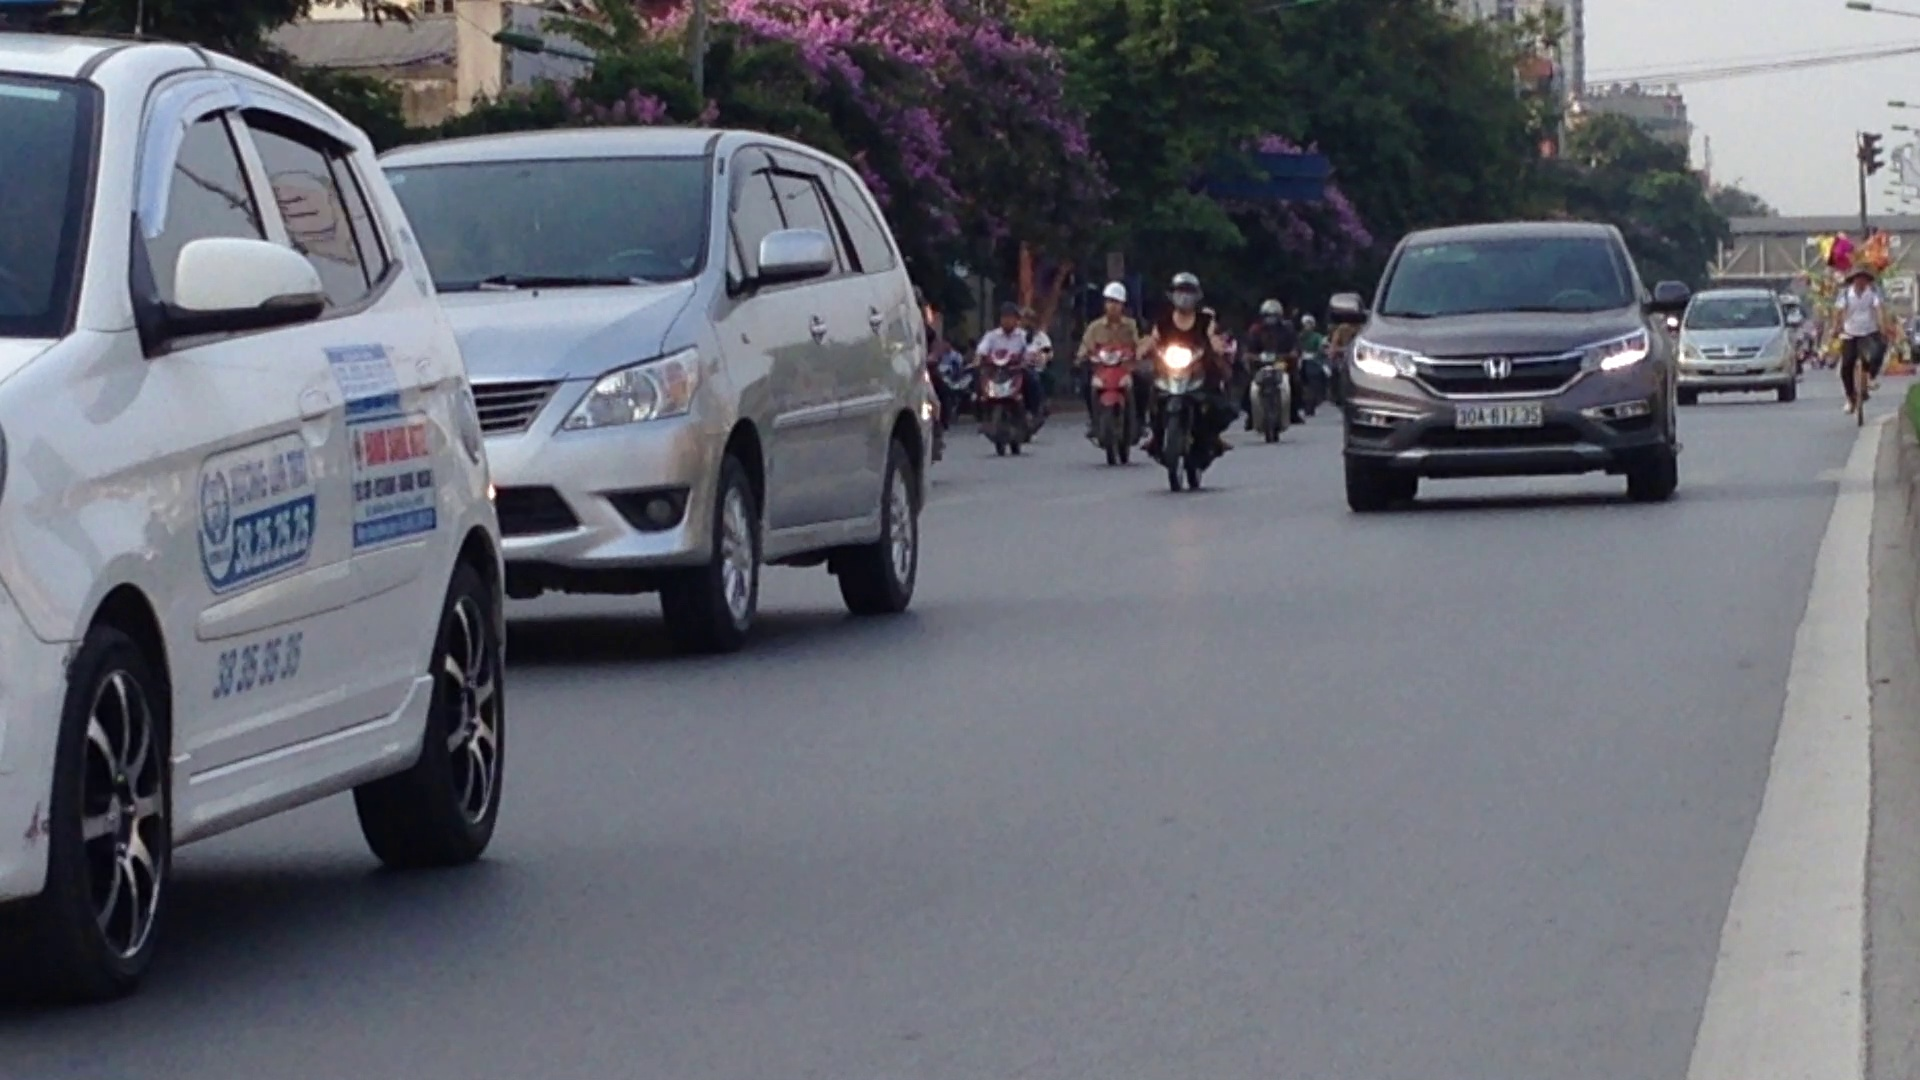vehicle-plate: (1450, 399, 1546, 428)
